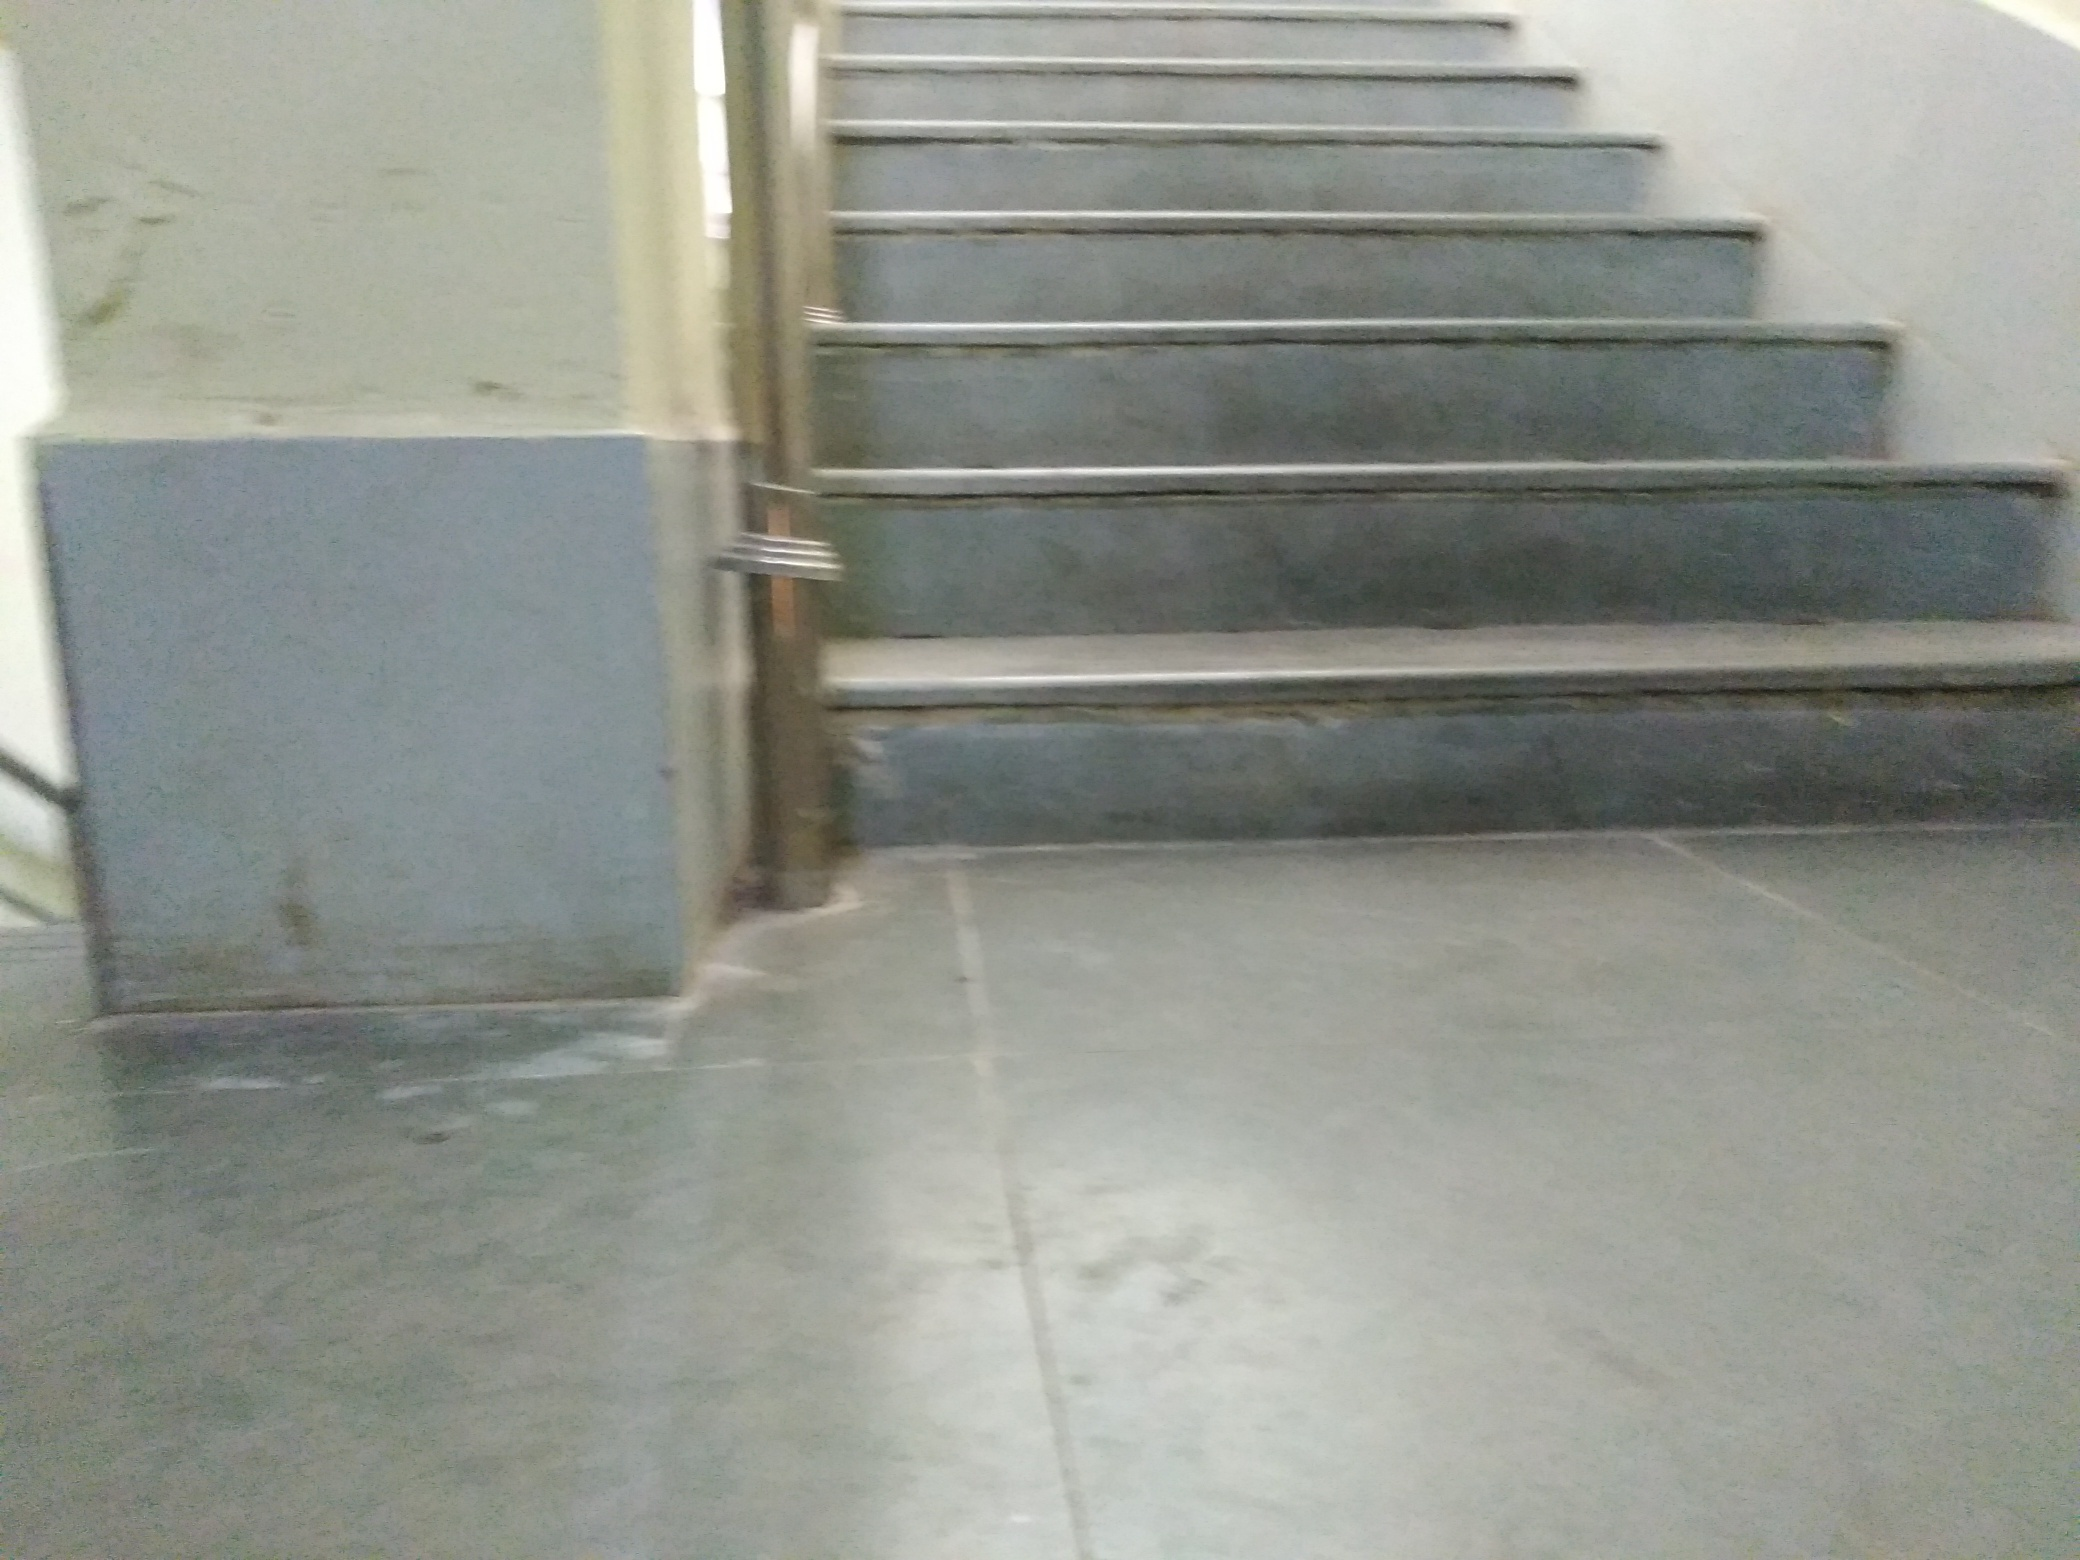stairs_up: (817, 20, 2080, 859)
